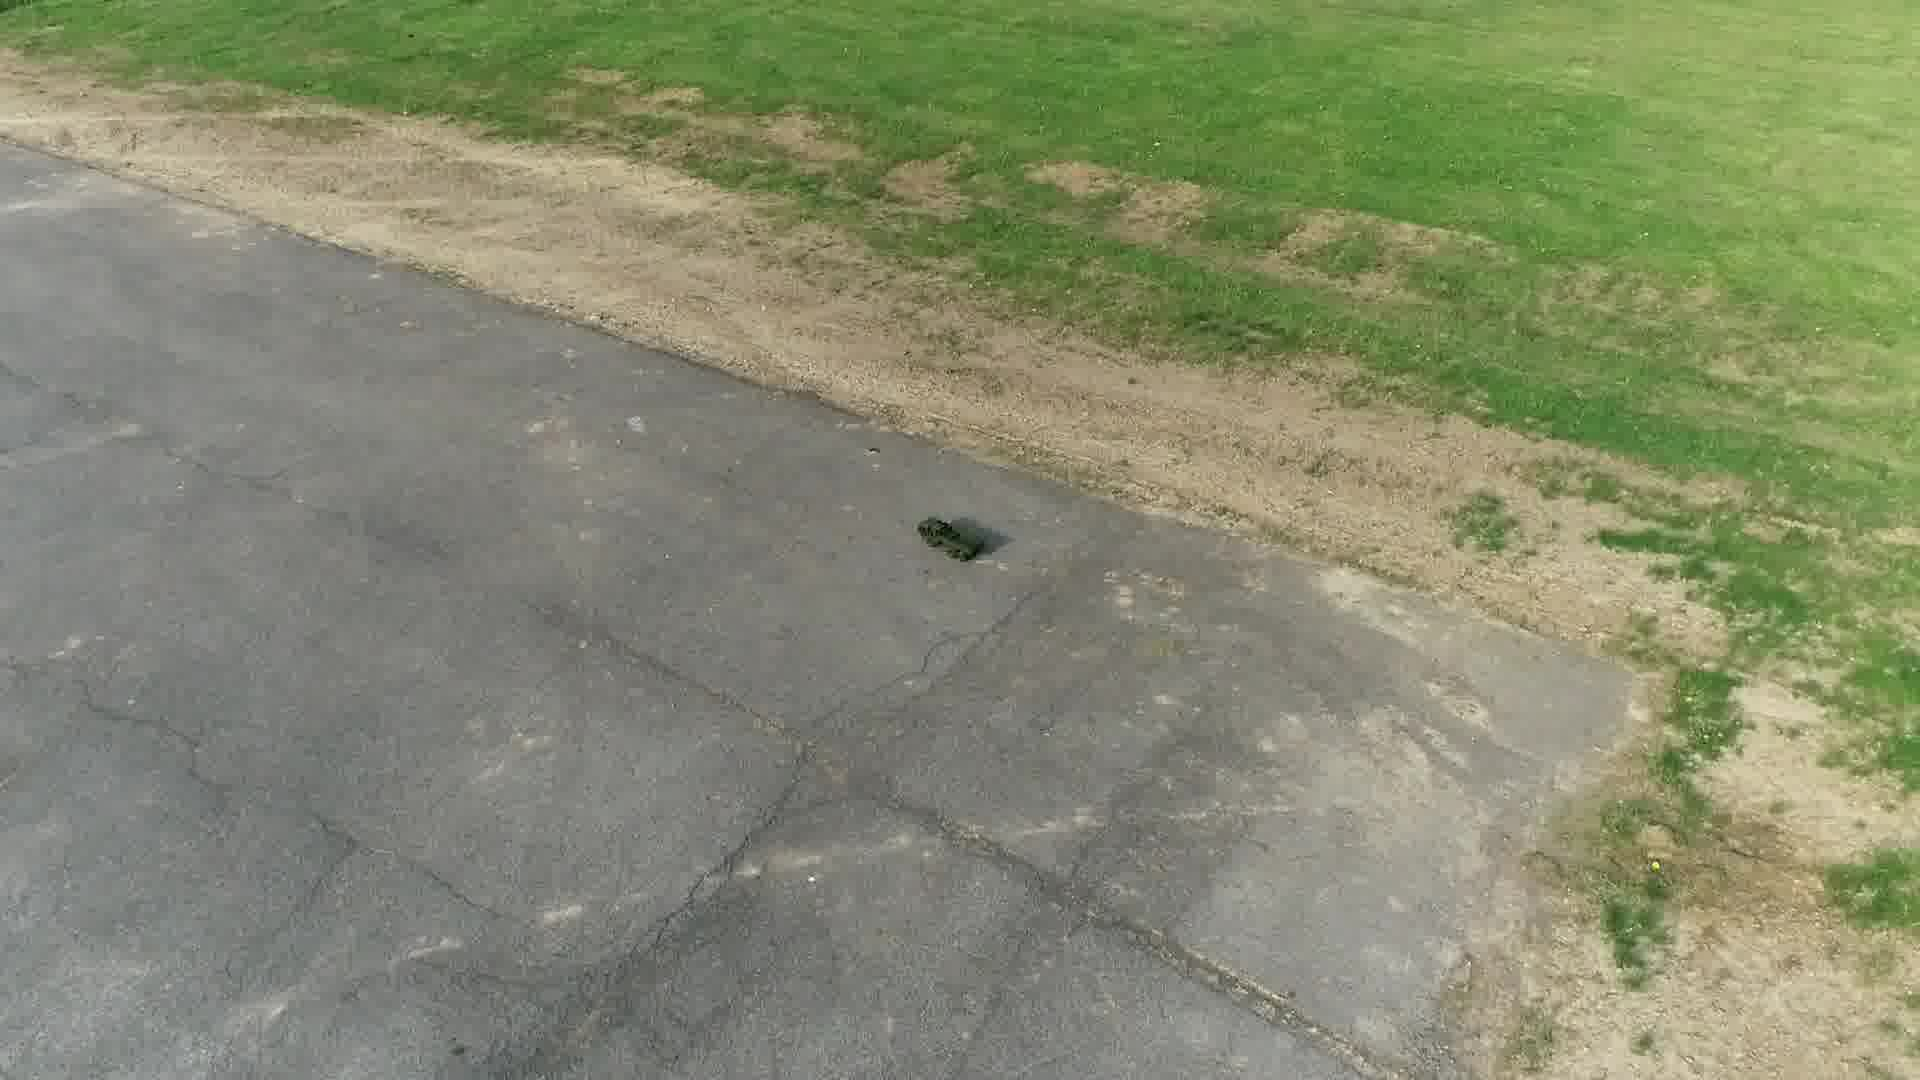transporter9: (910, 512, 990, 568)
